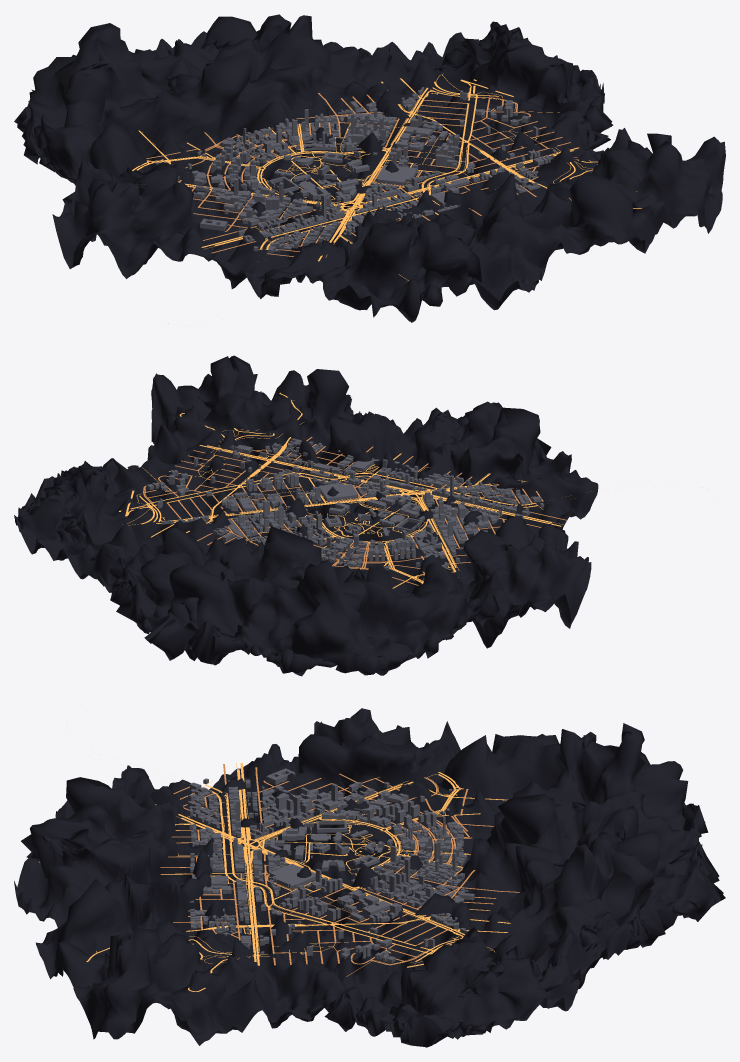
The model's file is rocoso.glb.
The picture shows the model from 3 angles, top to bottom: view 1: azimuth 30°, elevation 25°; view 2: azimuth 150°, elevation 25°; view 3: azimuth 270°, elevation 25°; orthographic projection. The views are drawn at different scales.
Visible parts, largest first — view 1: Circle, map_2.osm_buildings, map_2.osm_roads_residential, map_2.osm_roads_tertiary, map_2.osm_paths_footway, map_2.osm_roads_secondary, map_2.osm_roads_primary; view 2: Circle, map_2.osm_buildings, map_2.osm_roads_residential, map_2.osm_roads_tertiary, map_2.osm_paths_footway, map_2.osm_roads_secondary, map_2.osm_roads_primary; view 3: Circle, map_2.osm_buildings, map_2.osm_roads_residential, map_2.osm_roads_tertiary, map_2.osm_paths_footway, map_2.osm_roads_secondary, map_2.osm_roads_primary.
Boxes of the visible parts, x1,y1,x2,y2 form: Circle: (14,14,725,322); map_2.osm_buildings: (155,87,556,253); map_2.osm_roads_residential: (146,93,570,256); map_2.osm_roads_tertiary: (132,78,534,249); map_2.osm_paths_footway: (132,73,597,280); map_2.osm_roads_secondary: (185,81,547,261); map_2.osm_roads_primary: (202,147,578,247); Circle: (14,355,598,676); map_2.osm_buildings: (146,438,543,580); map_2.osm_roads_residential: (143,437,567,585); map_2.osm_roads_tertiary: (126,443,537,588); map_2.osm_paths_footway: (122,400,563,583); map_2.osm_roads_secondary: (156,437,526,571); map_2.osm_roads_primary: (199,445,560,526); Circle: (14,708,725,1047); map_2.osm_buildings: (187,768,474,963); map_2.osm_roads_residential: (160,764,519,965); map_2.osm_roads_tertiary: (160,772,507,961); map_2.osm_paths_footway: (96,763,494,976); map_2.osm_roads_secondary: (155,781,510,938); map_2.osm_roads_primary: (237,763,259,965).
Bounding box in the file's own units: 958 × 206 × 925.
